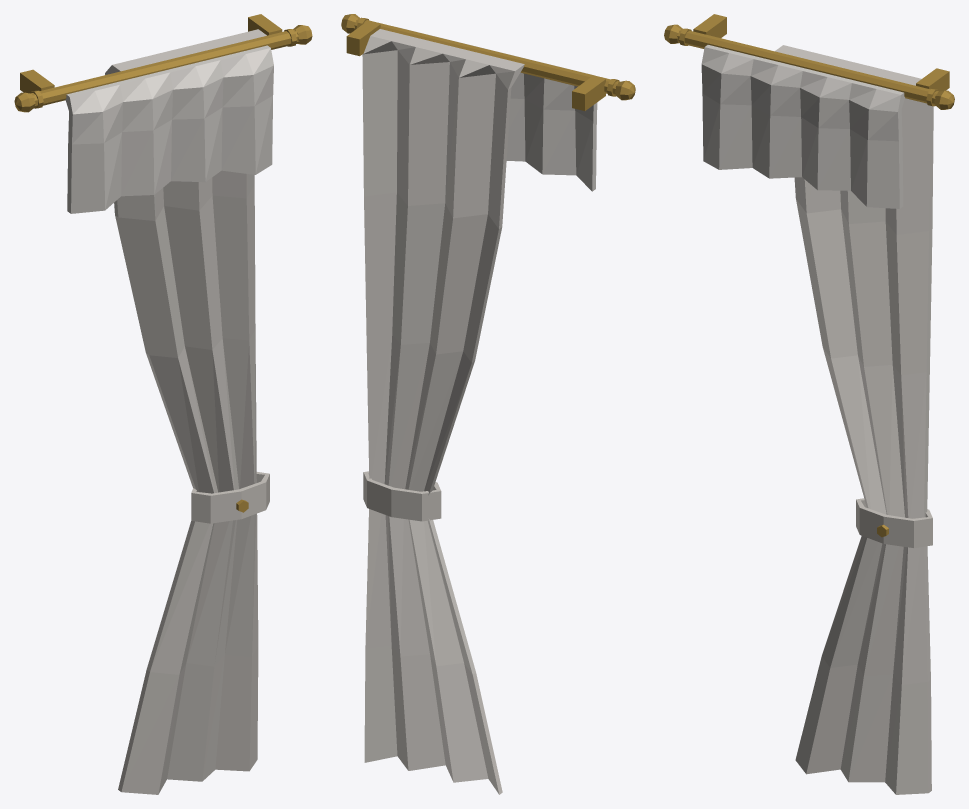
The model's file is curtain-panel-ee2ed9.glb.
3 views of the same model, side by side, from view 1: azimuth 30°, elevation 25°; view 2: azimuth 150°, elevation 25°; view 3: azimuth 330°, elevation 25° (orthographic). The views are drawn at different scales.
Parts seen in each view (by area): view 1: curtain-panel-mesh, tieback-mesh; view 2: curtain-panel-mesh, tieback-mesh; view 3: curtain-panel-mesh, tieback-mesh.
Boxes of the visible parts, <box> form: curtain-panel-mesh: <box>14,14,312,794</box>; tieback-mesh: <box>191,472,269,523</box>; curtain-panel-mesh: <box>341,14,635,794</box>; tieback-mesh: <box>363,471,441,521</box>; curtain-panel-mesh: <box>664,14,954,794</box>; tieback-mesh: <box>856,498,932,548</box>.
Bounding box in the file's own units: 1 × 2.38 × 0.2343.
